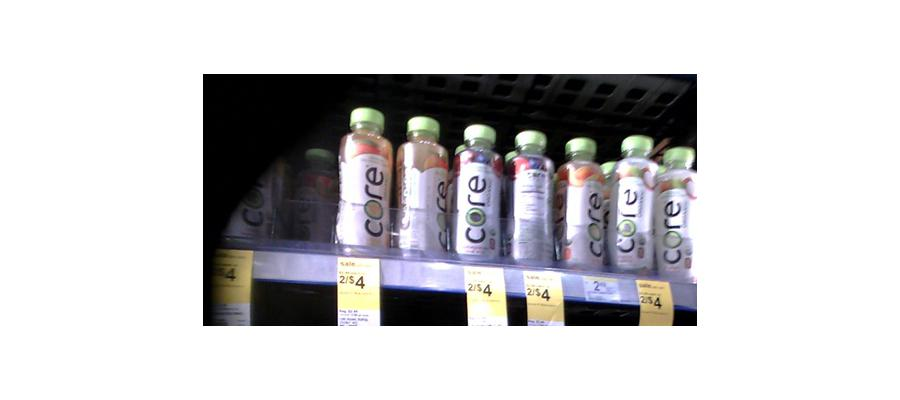bottle: (336, 108, 392, 259), (446, 122, 502, 264), (395, 117, 448, 258), (556, 136, 610, 273), (506, 130, 556, 267), (610, 137, 658, 278), (659, 143, 700, 282), (299, 143, 335, 246)
